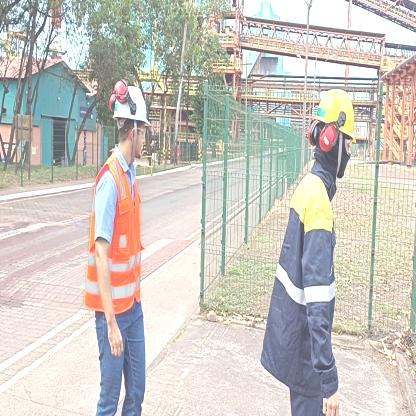Balaclava: (315, 127, 346, 180)
C_eletrica: (274, 171, 338, 377)
Capacete: (315, 80, 358, 137), (107, 78, 151, 127)
colete: (86, 156, 146, 315)
